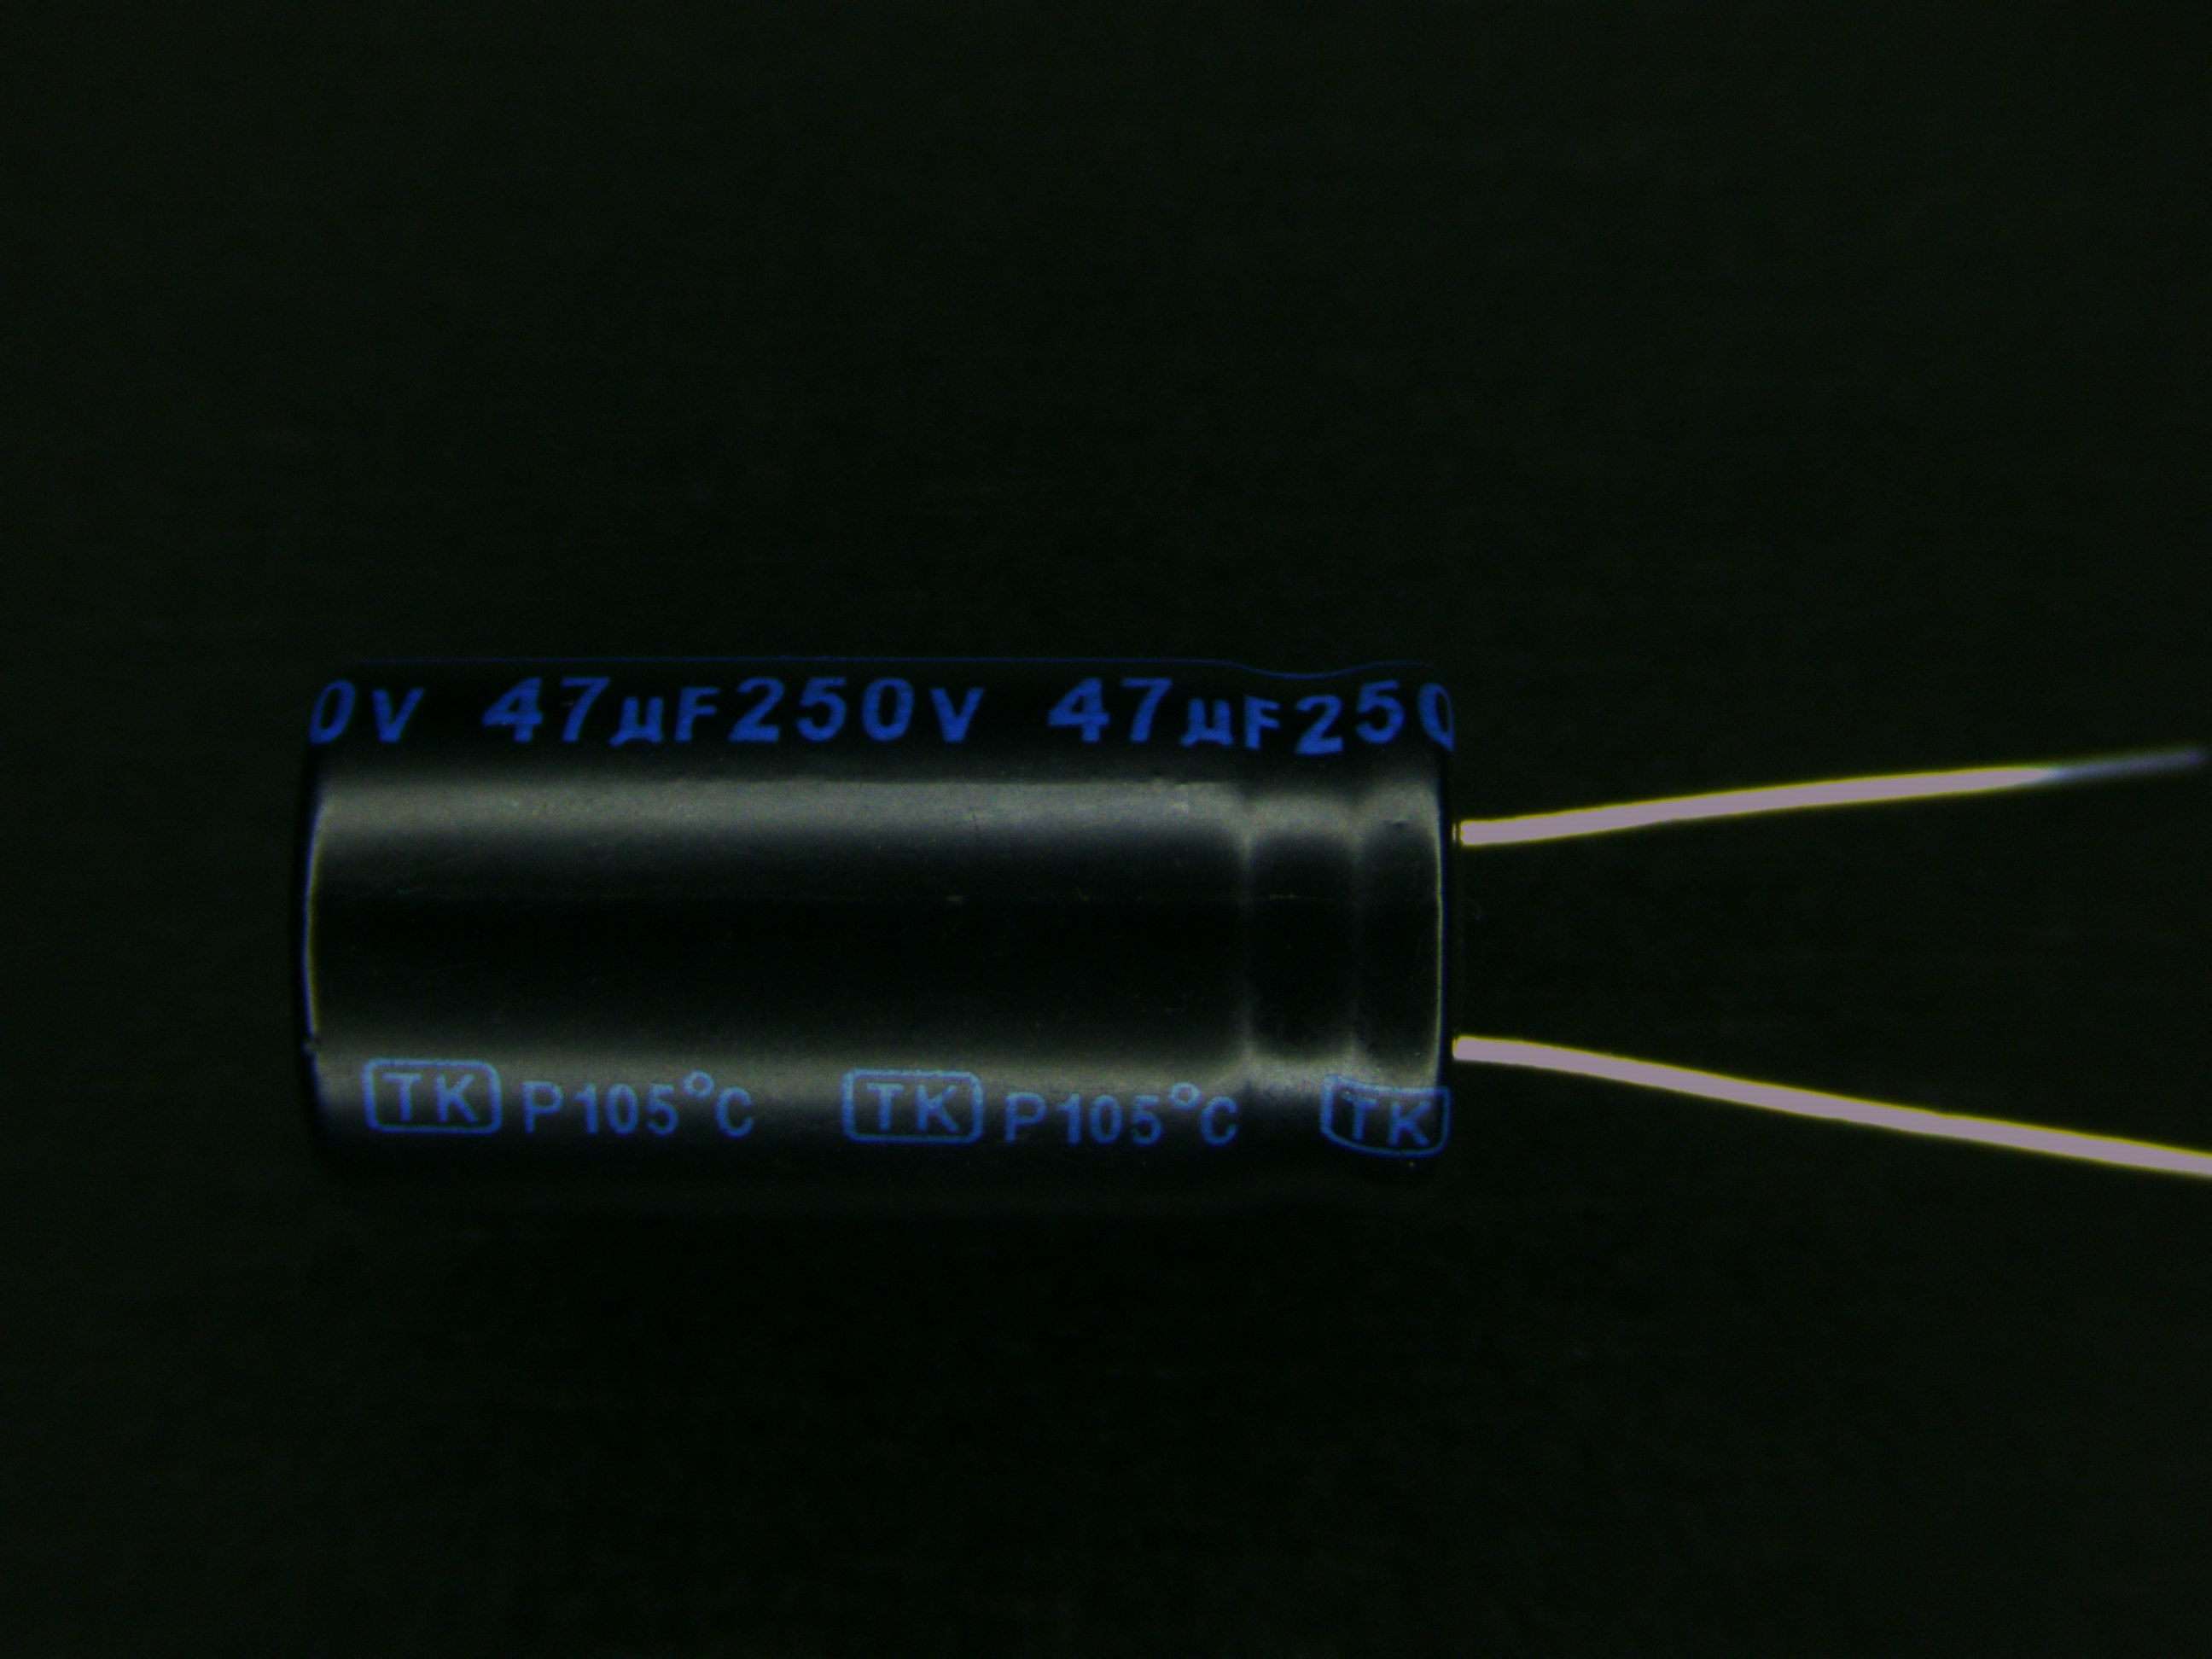c2: (280, 655, 1630, 1209)
